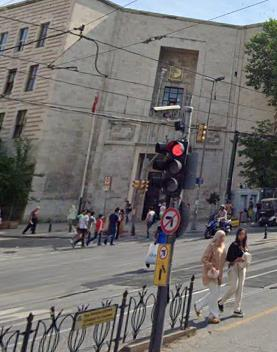leftturnsareforbidden: (160, 206, 184, 237)
redlight: (158, 136, 192, 197)
